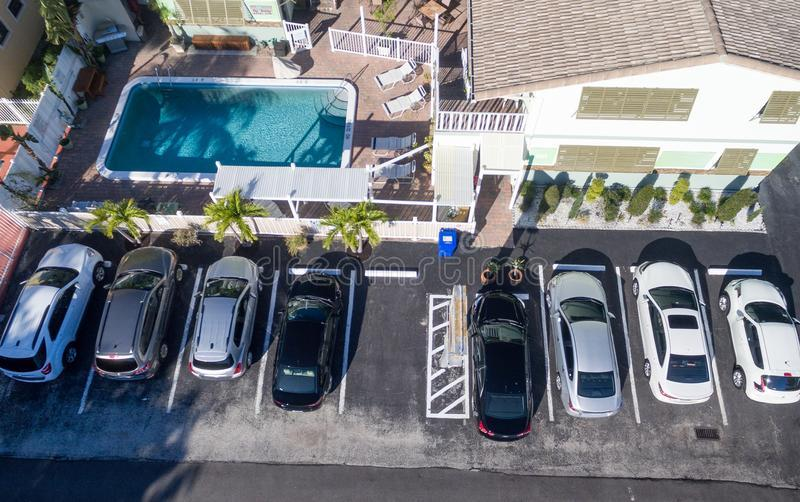car: (613, 253, 720, 415), (542, 256, 643, 424), (83, 229, 181, 395), (4, 227, 95, 385), (266, 260, 349, 411), (463, 277, 540, 437), (182, 238, 257, 395), (720, 273, 800, 410)
empty space: (335, 251, 436, 423)
